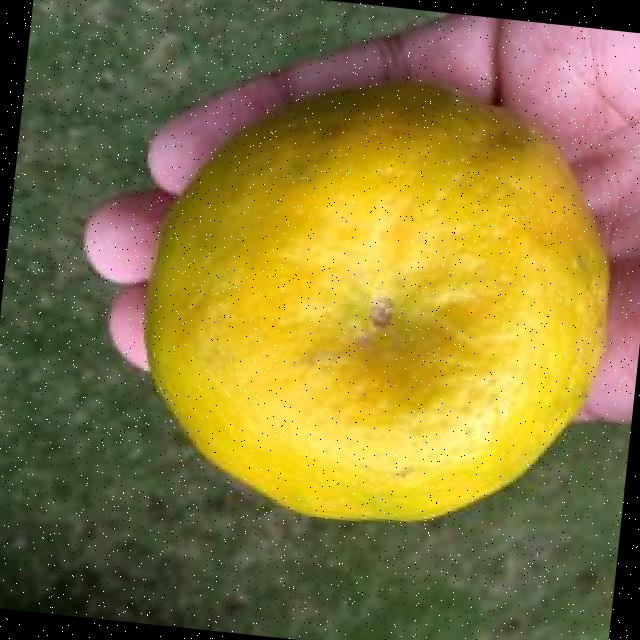lemon: (149, 84, 605, 519)
